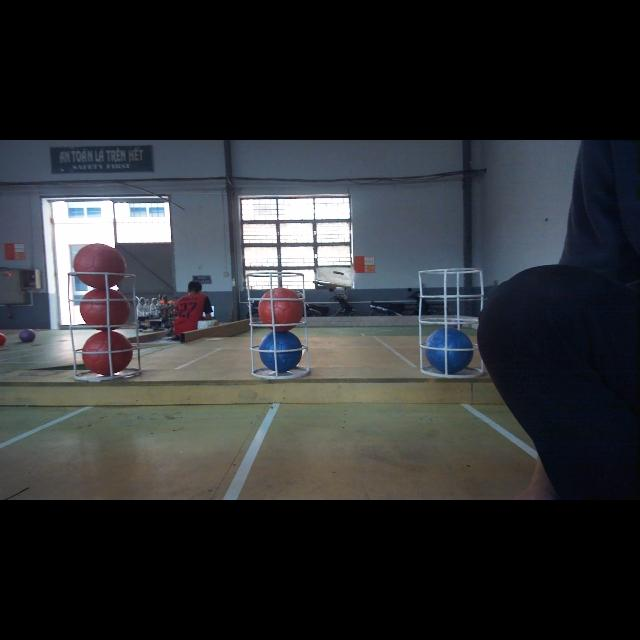B: (426, 328, 472, 372), (260, 332, 304, 372)
R: (74, 242, 128, 288), (78, 288, 130, 330), (82, 331, 132, 374), (260, 288, 306, 332)
